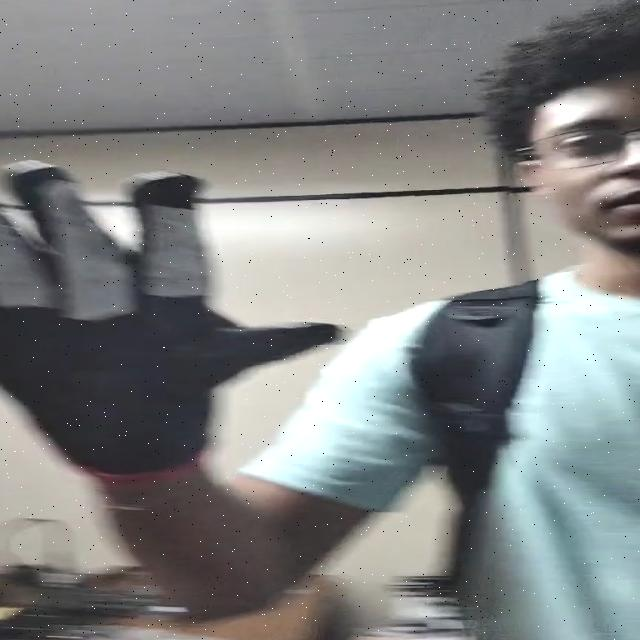Gloves: (0, 163, 341, 476)
